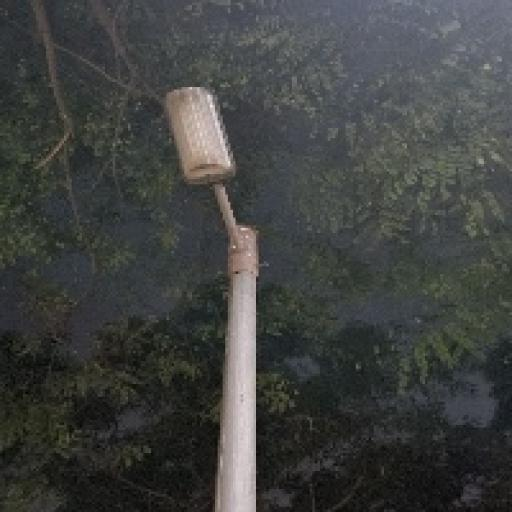Not Working: (146, 78, 254, 196)
